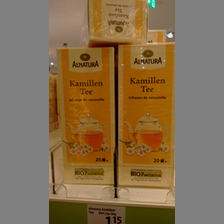tea: (116, 42, 174, 188), (56, 46, 116, 187)
